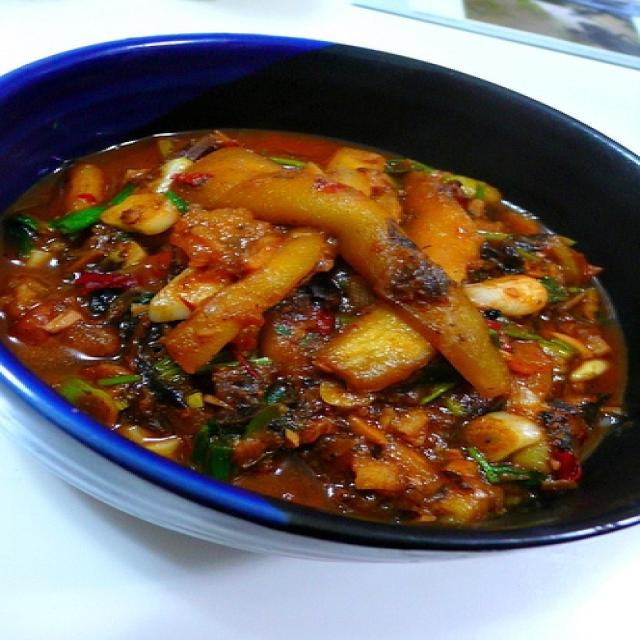鸡蛋料理: (21, 71, 615, 552)
